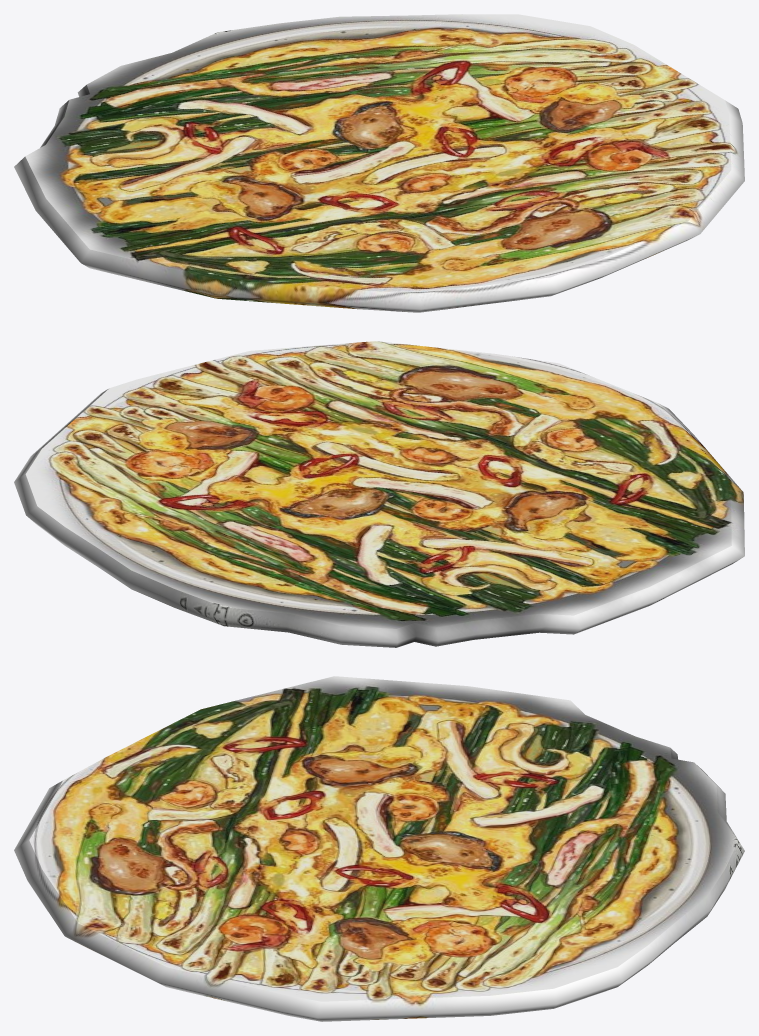
Rendered from Pajeon.FBX.
The picture shows the model from 3 angles, top to bottom: view 1: azimuth 30°, elevation 25°; view 2: azimuth 150°, elevation 25°; view 3: azimuth 270°, elevation 25°; orthographic projection. The views are drawn at different scales.
Parts seen in each view (by area): view 1: Cylinder004; view 2: Cylinder004; view 3: Cylinder004.
Part boxes in pixels (x1,y1,x2,y2): Cylinder004: (14, 14, 744, 312); Cylinder004: (14, 341, 744, 647); Cylinder004: (14, 676, 744, 1021).
Bounding box in the file's own units: 37.52 × 1.04 × 34.39.
1 material, 1 textured.
